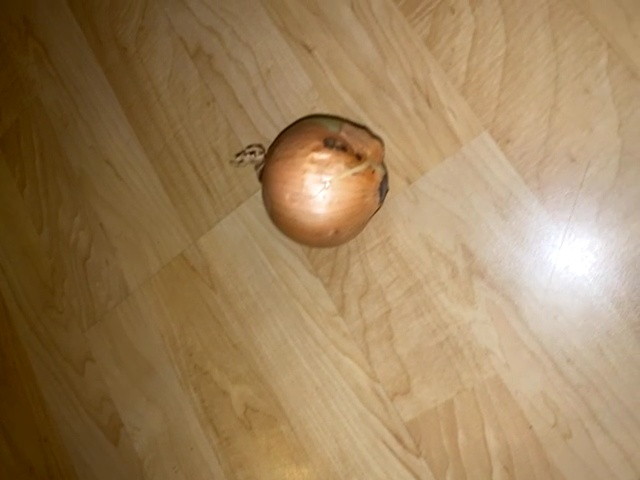onion: (225, 107, 397, 259)
